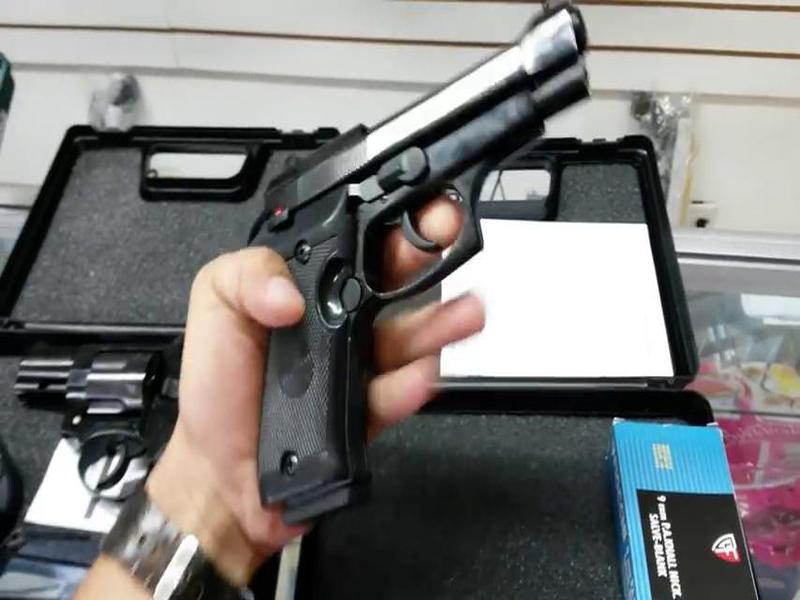Pistola: (226, 11, 612, 531)
